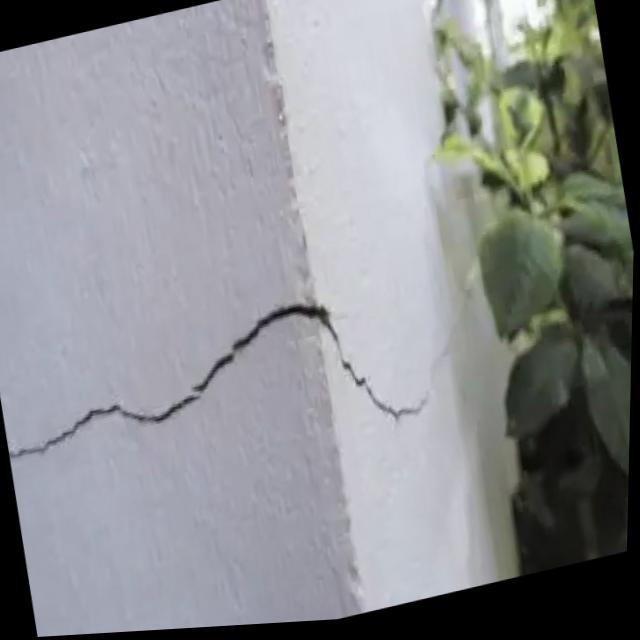Crack: (0, 273, 369, 486)
